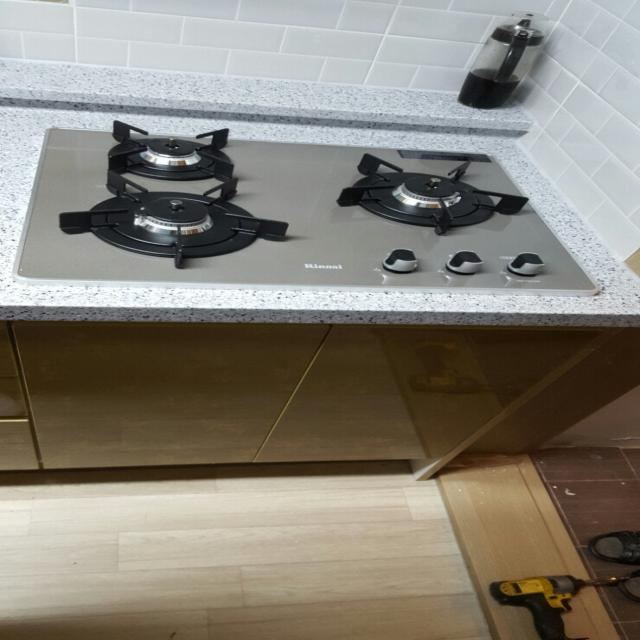knob_ON: (55, 115, 554, 248)
